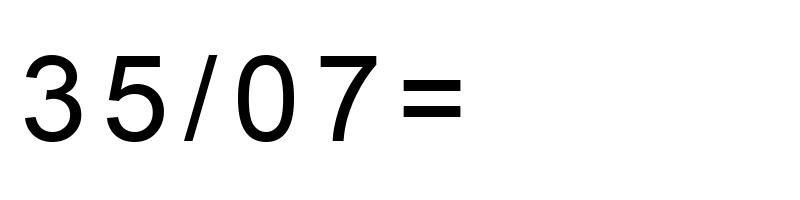/: (184, 32, 218, 167)
0: (233, 32, 300, 167)
3: (20, 32, 87, 167)
5: (102, 32, 169, 167)
7: (315, 32, 382, 167)
=: (397, 32, 467, 167)
